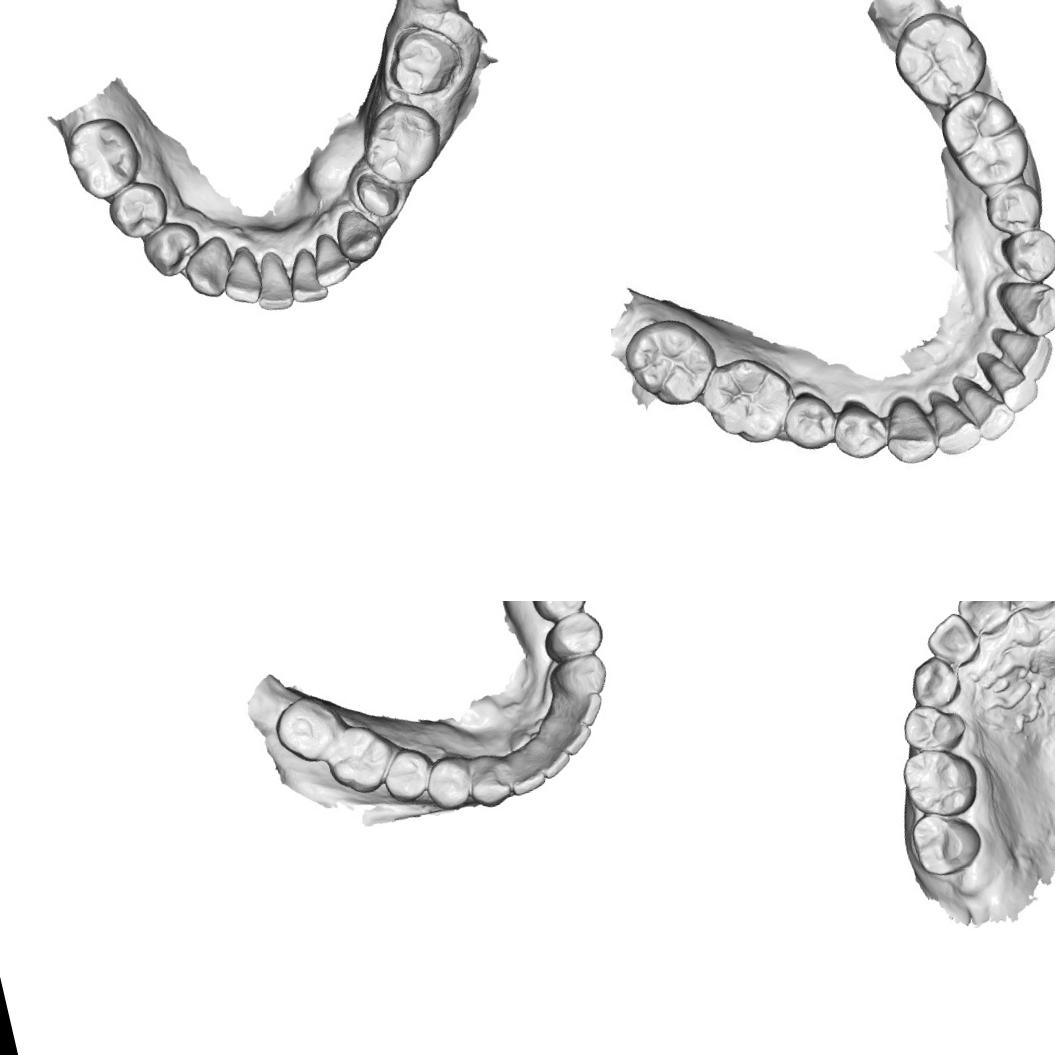canine: (874, 394, 940, 470), (994, 270, 1055, 339), (178, 234, 238, 304), (904, 650, 967, 715), (330, 202, 389, 266), (547, 649, 611, 705), (463, 751, 516, 812)
crown: (377, 15, 470, 104), (349, 164, 406, 224)
incisor: (956, 367, 1014, 442), (990, 318, 1055, 384), (924, 383, 982, 456), (920, 606, 983, 672), (982, 345, 1040, 410), (213, 242, 268, 310), (246, 247, 297, 316), (304, 227, 355, 288), (282, 244, 330, 307), (500, 743, 550, 800), (524, 732, 574, 784), (545, 713, 598, 762), (553, 688, 609, 734), (952, 601, 1016, 639), (1001, 601, 1055, 622)
molar: (934, 85, 1040, 197), (694, 346, 796, 458), (617, 309, 718, 414), (890, 5, 986, 110), (352, 93, 452, 193), (60, 109, 149, 206), (317, 716, 403, 802), (898, 741, 984, 825), (267, 686, 349, 770), (902, 804, 985, 882)
premolar: (102, 175, 174, 243), (779, 385, 844, 458), (139, 216, 208, 284), (826, 394, 890, 466), (376, 741, 442, 808), (896, 696, 964, 756), (996, 220, 1055, 286), (983, 177, 1047, 237), (541, 606, 607, 664), (418, 751, 476, 816), (527, 601, 592, 626)
